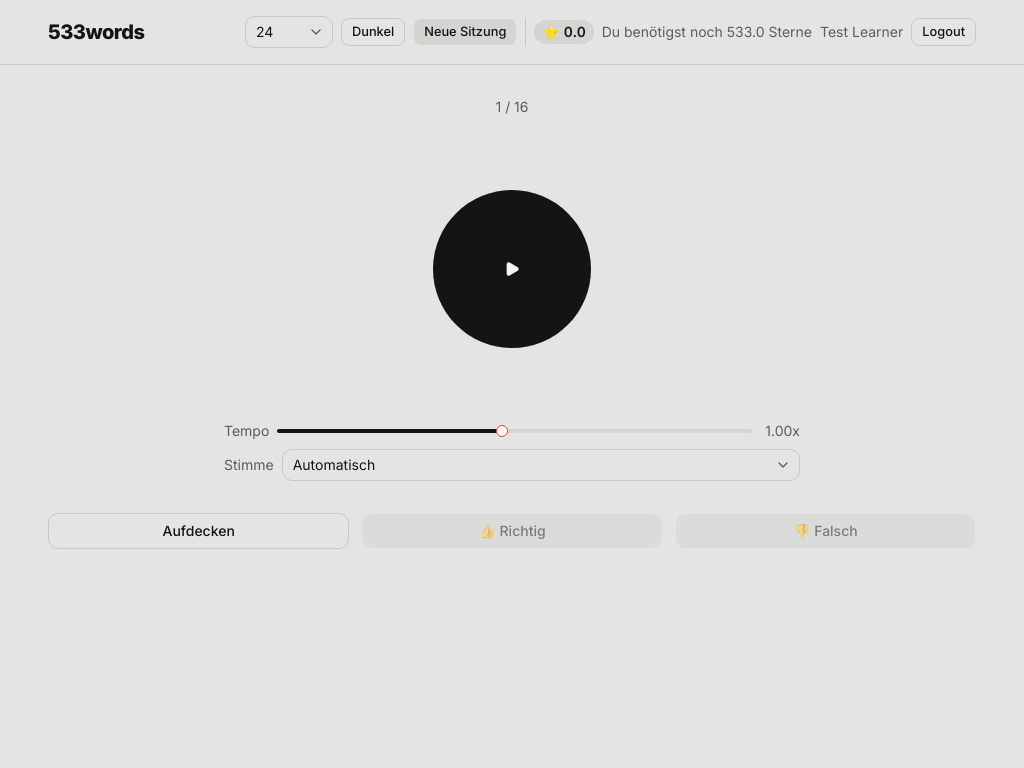
Test: Home practice screen › session-progress indicator › remains visible after reveal, for the same current word
Expected: the button named "abspielen" is shown, [432,189,592,349]
Expected: the text "1 / 16" is shown, [496,97,528,117]
What coordinates should you click on to do the following:
click the button "Aufdecken"
I would click on:
 (199, 531)
Its box is [48,513,349,549].
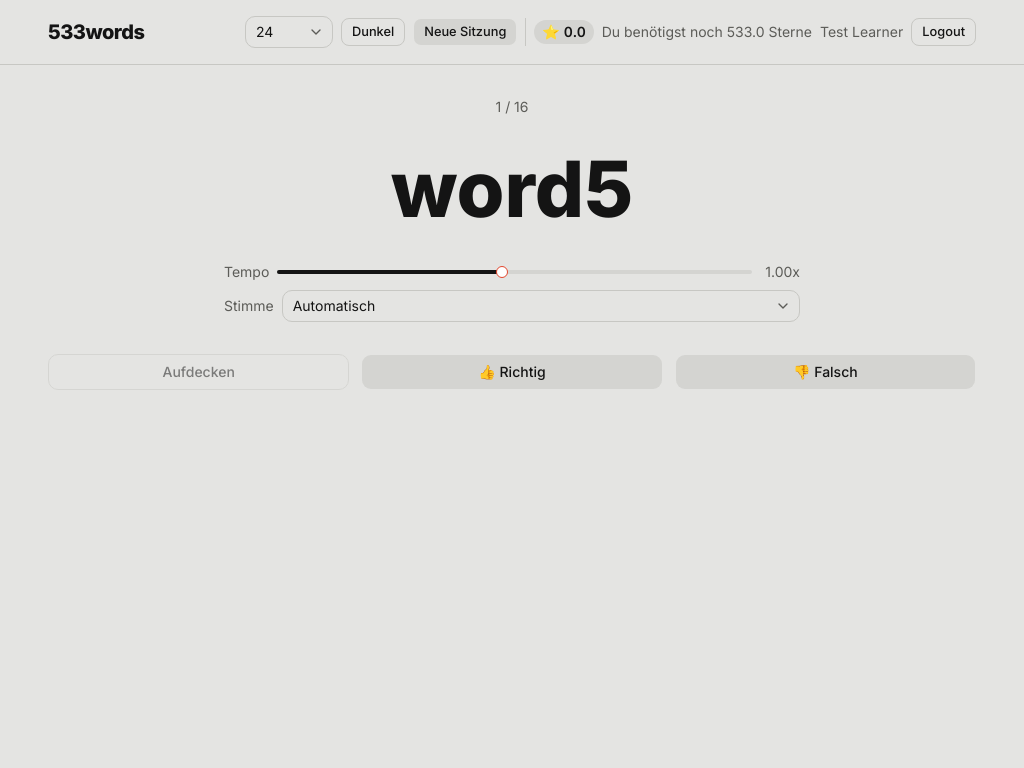
Expected: the text "1 / 16" is shown, [496,97,528,117]
Result: the text "word5" is shown at [391,149,633,230]
